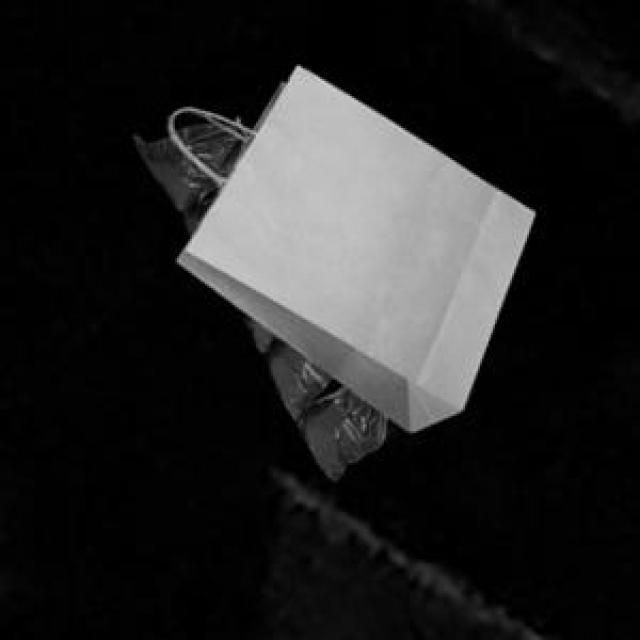miscellaneous trash: (131, 122, 382, 476)
paper: (164, 62, 531, 429)
